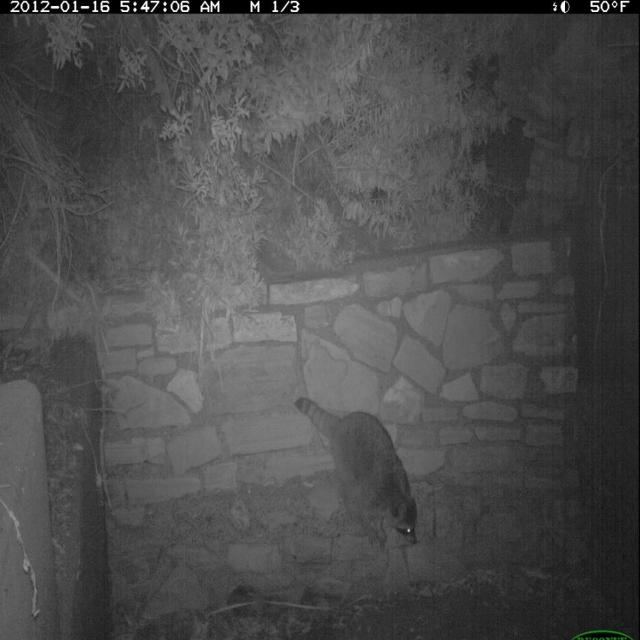raccoon: (292, 385, 428, 562)
